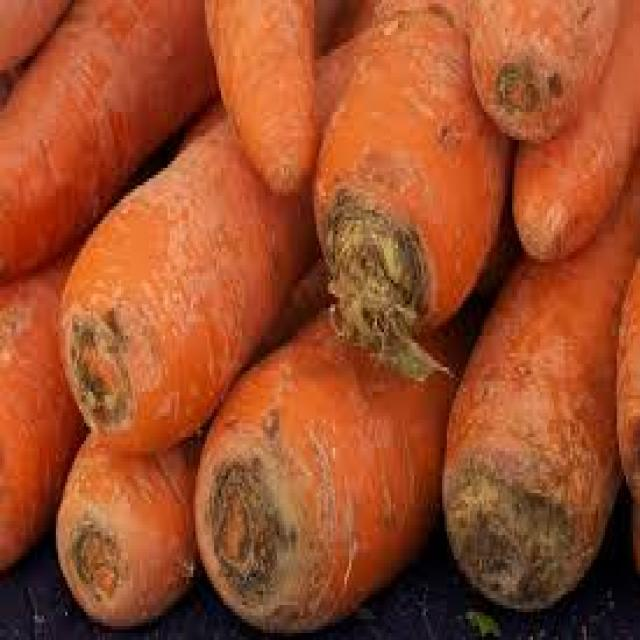Stale_Carrot: (158, 360, 361, 640), (302, 168, 478, 372)
